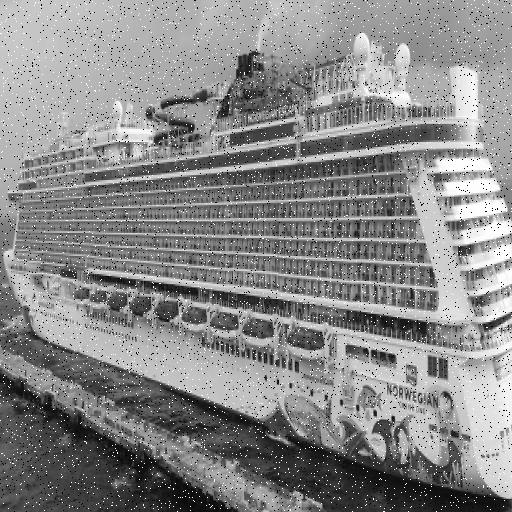cruises: (1, 24, 512, 512)
